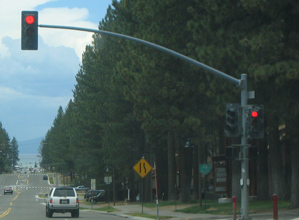redlight: (23, 14, 36, 25), (250, 111, 261, 118)
